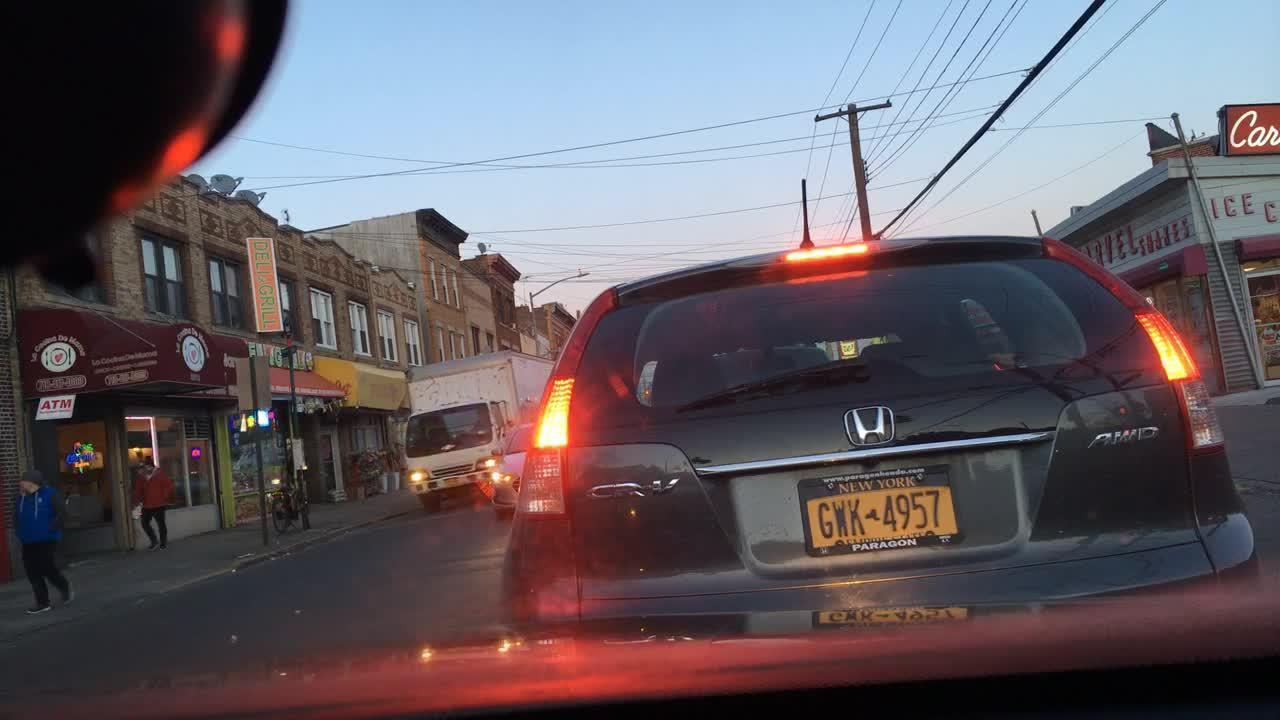Honda: (822, 386, 935, 464)
